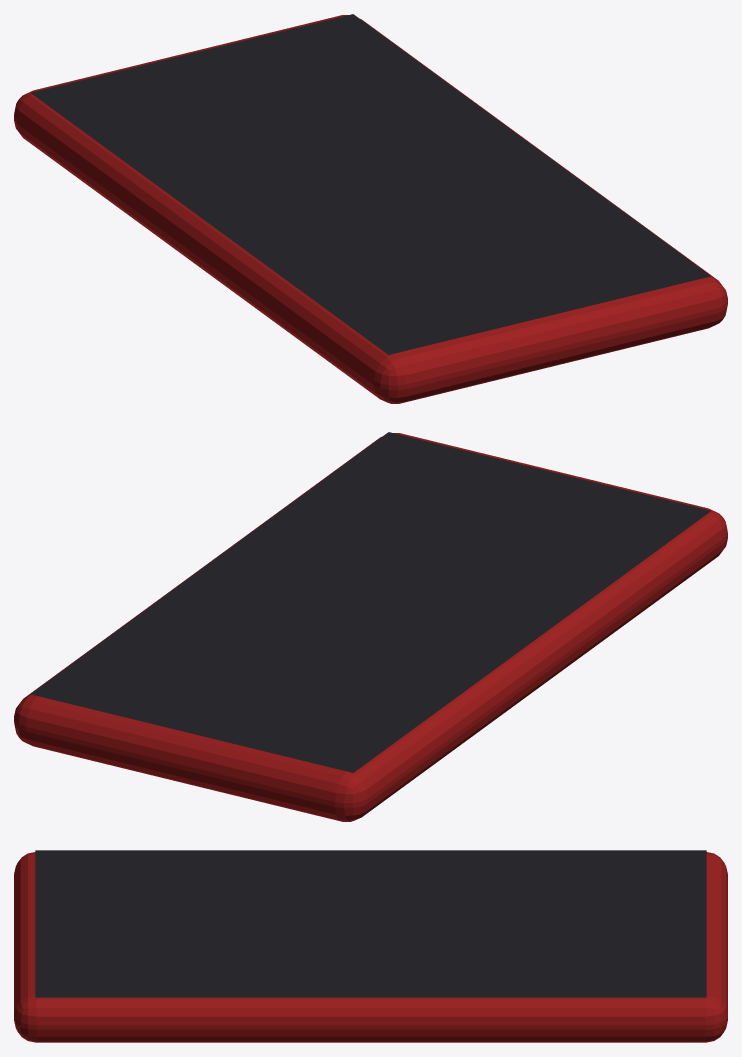
File: Phone_223.glb
3 views of the same model, one above another, from view 1: azimuth 30°, elevation 25°; view 2: azimuth 150°, elevation 25°; view 3: azimuth 270°, elevation 25° (orthographic). The views are drawn at different scales.
Visible parts, largest first — view 1: Phone_Screen, Phone_Body; view 2: Phone_Screen, Phone_Body; view 3: Phone_Screen, Phone_Body.
Boxes of the visible parts, x1=… form: Phone_Screen: x1=30, y1=14, x2=710, y2=354; Phone_Body: x1=14, y1=15, x2=727, y2=403; Phone_Screen: x1=31, y1=432, x2=711, y2=772; Phone_Body: x1=14, y1=433, x2=727, y2=821; Phone_Screen: x1=35, y1=850, x2=706, y2=997; Phone_Body: x1=14, y1=852, x2=727, y2=1042.
Bounding box in the file's own units: 0.0746 × 0.01 × 0.1403.
